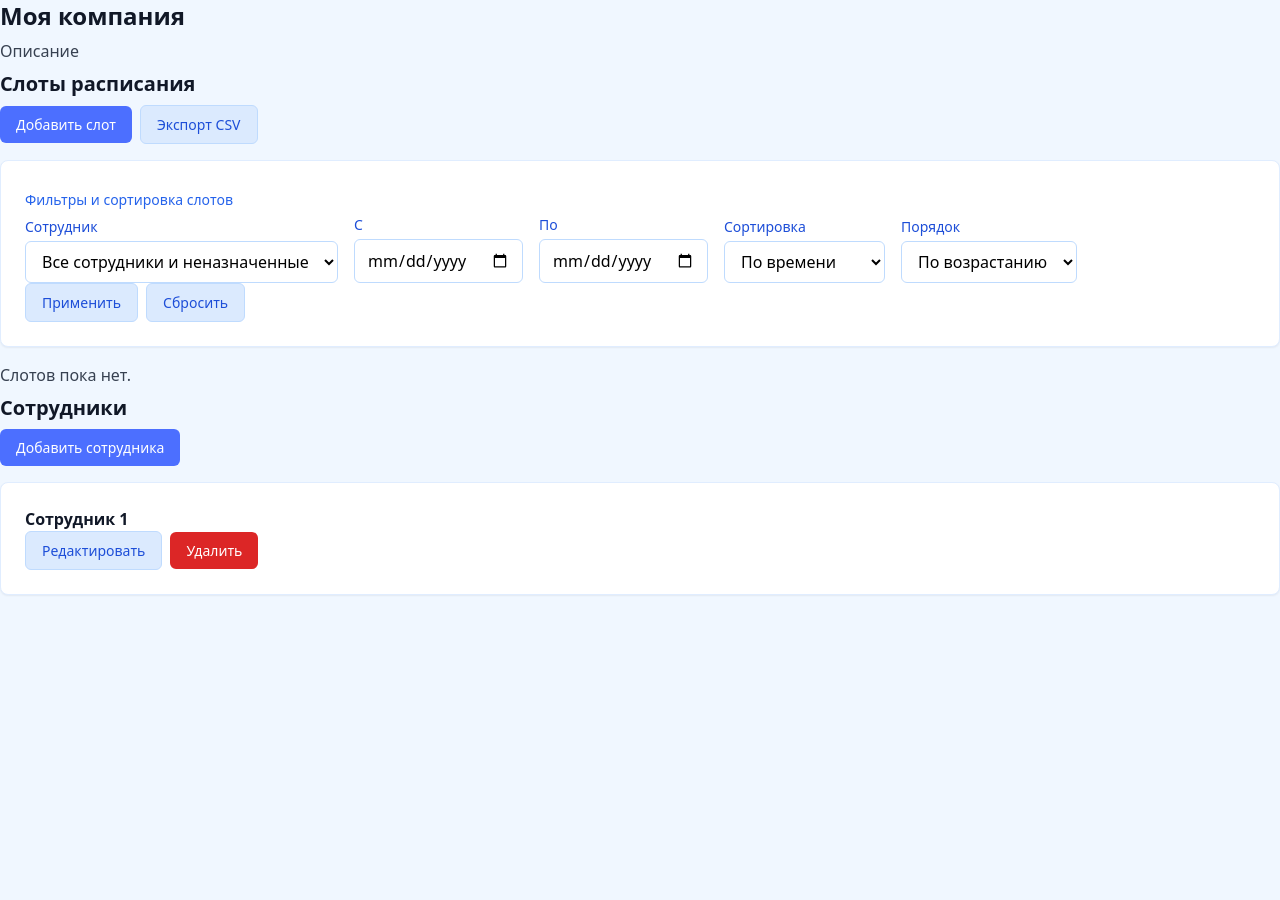
CompanyPage › удаляет сотрудника из списка
The width and height of the screenshot is (1280, 900).
Click the button "Удалить" at (214, 551), box [170,532,258,569]
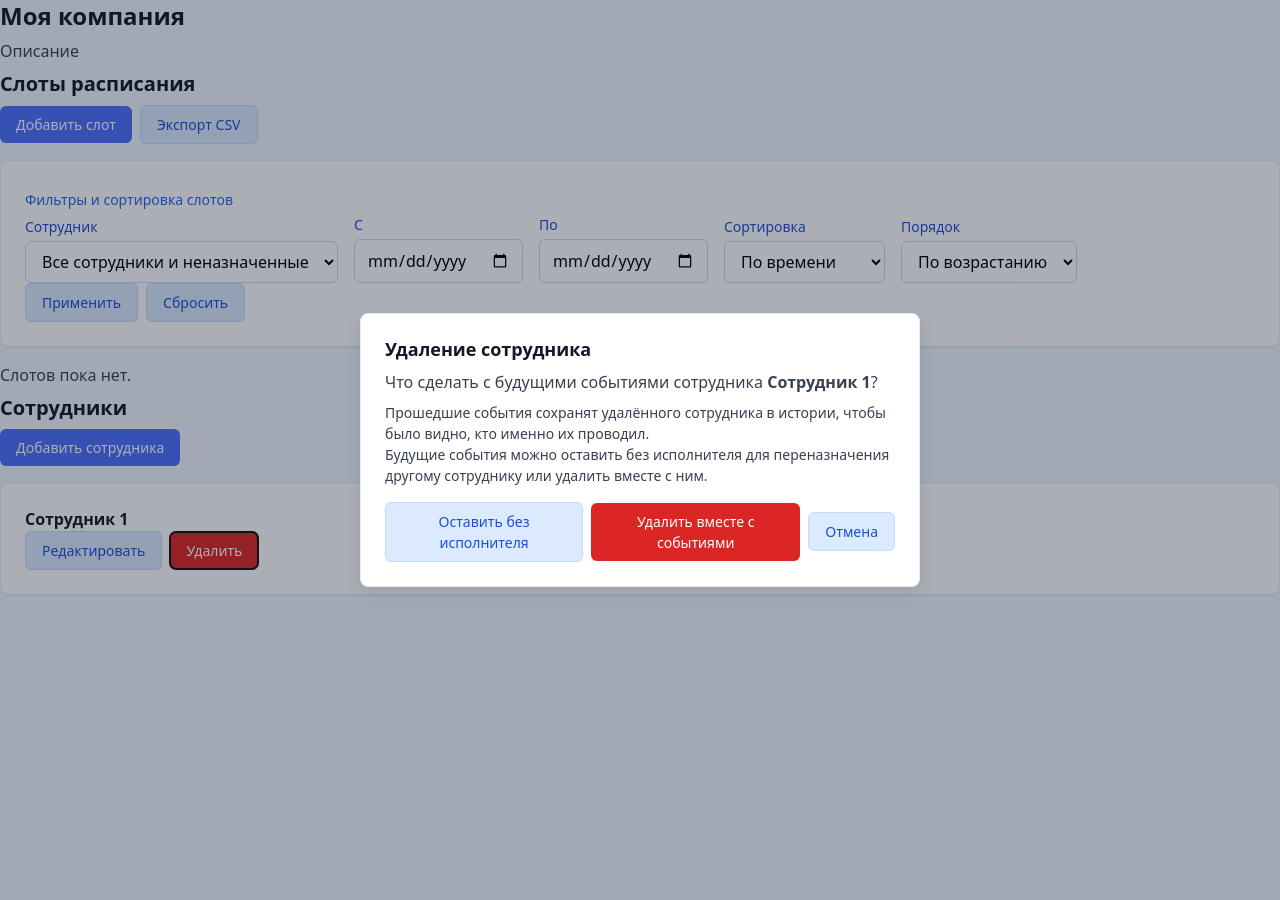
Expected: the heading "Удаление сотрудника" is shown, [385,337,591,361]
Expected: the button "Оставить без исполнителя" is shown
Expected: the button "Удалить вместе с событиями" is shown, [591,503,800,561]
Click the button "Оставить без исполнителя" at (484, 532), box [385,502,583,562]
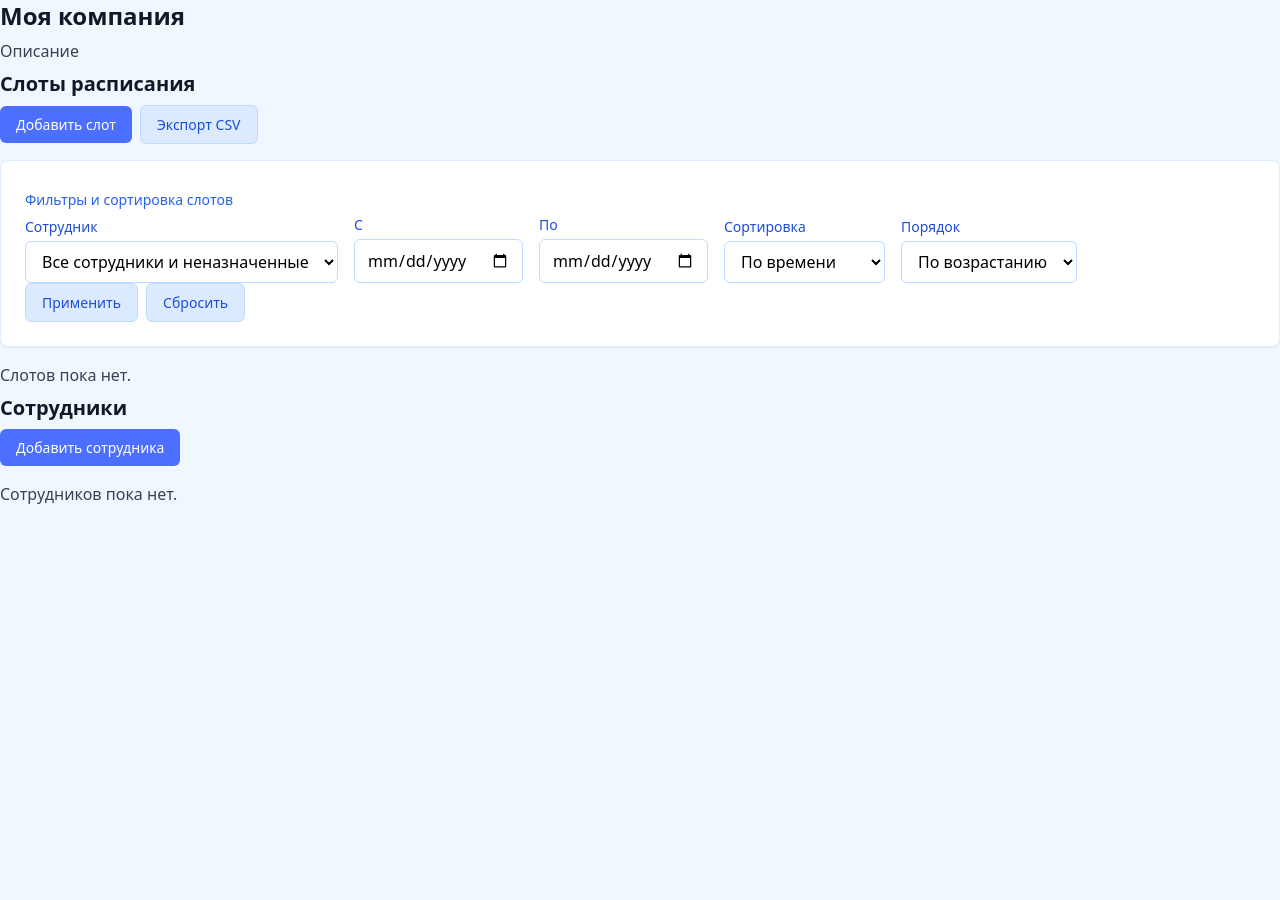
Expected: the text "Сотрудников пока нет." is shown, [0,483,177,505]
